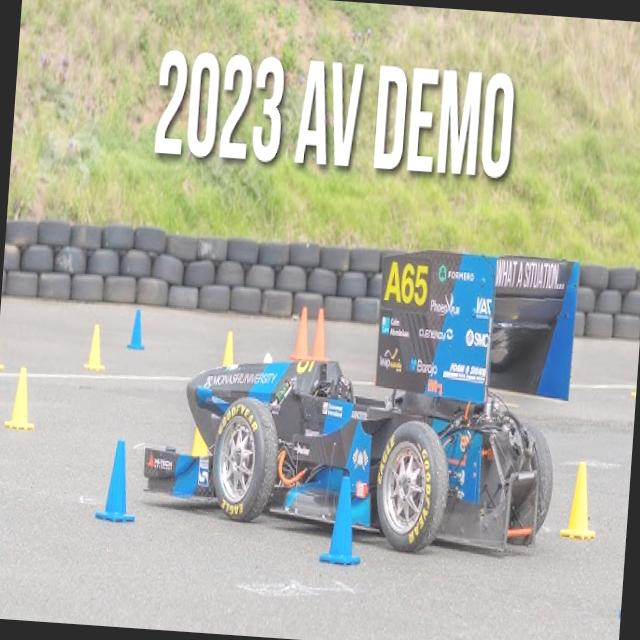blue_cone: (319, 476, 365, 566), (95, 438, 140, 524), (128, 308, 146, 349)
yellow_cone: (560, 460, 599, 539), (5, 366, 38, 430), (84, 324, 108, 371), (222, 329, 236, 366)
